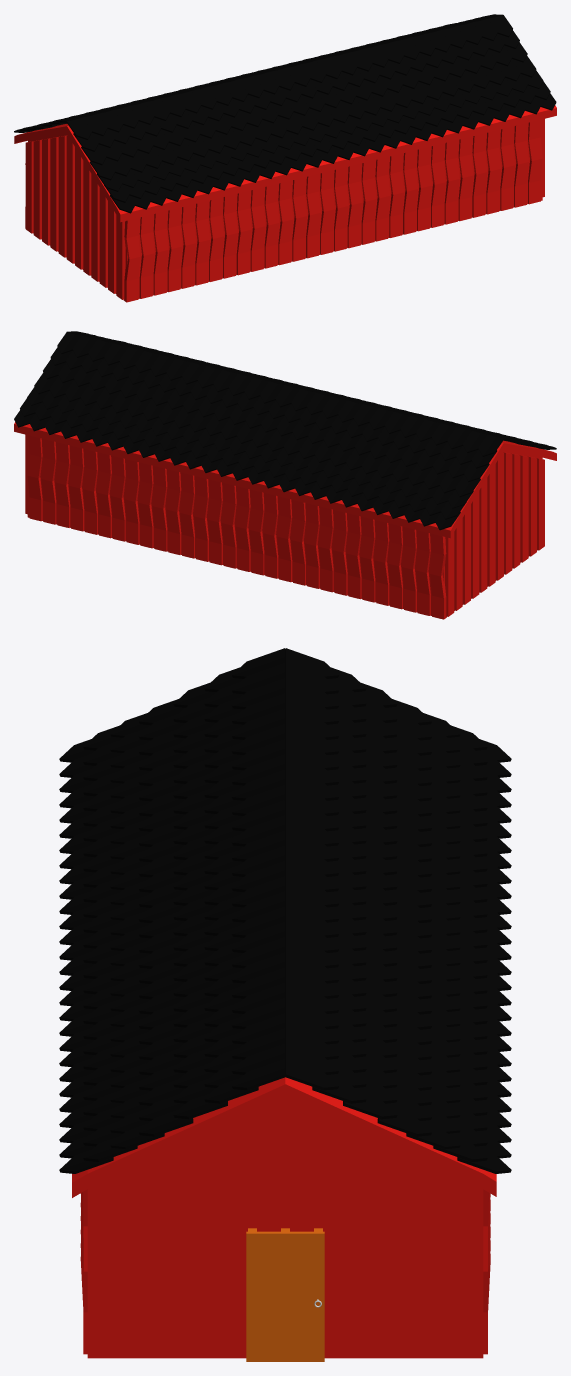
Rendered from Lato.fbx.
3 views of the same model, one above another, from view 1: azimuth 30°, elevation 25°; view 2: azimuth 150°, elevation 25°; view 3: azimuth 270°, elevation 25° (orthographic). The views are drawn at different scales.
Visible parts, largest first — view 1: Cube.003, Cube, Plane, Plane.003, Plane.002, Plane.005, Plane.001, Plane.004, Plane.006, Cube.002; view 2: Cube.003, Cube, Plane, Plane.003, Plane.002, Plane.005, Plane.001, Plane.004, Plane.006, Cube.002; view 3: Cube, Plane, Plane.003, Plane.002, Plane.004, Plane.005, Plane.001, Plane.006, Cube.001, Cube.003.
Boxes of the visible parts, x1,y1,x2,y2 form: Cube.003: [139, 119, 542, 298]; Cube: [14, 105, 556, 299]; Plane: [57, 14, 512, 139]; Plane.003: [33, 56, 536, 180]; Plane.002: [42, 42, 527, 165]; Plane.005: [20, 23, 550, 202]; Plane.001: [50, 17, 519, 151]; Plane.004: [26, 70, 543, 191]; Plane.006: [14, 26, 556, 213]; Cube.002: [25, 142, 140, 302]; Cube.003: [27, 435, 430, 615]; Cube: [14, 422, 556, 616]; Plane: [57, 331, 513, 456]; Plane.003: [34, 372, 536, 497]; Plane.002: [43, 359, 528, 482]; Plane.005: [20, 339, 550, 519]; Plane.001: [50, 334, 520, 468]; Plane.004: [27, 387, 543, 508]; Plane.006: [14, 343, 556, 530]; Cube.002: [430, 533, 446, 619]; Cube: [72, 1077, 496, 1358]; Plane: [232, 648, 338, 1090]; Plane.003: [139, 699, 431, 1136]; Plane.002: [173, 683, 397, 1119]; Plane.004: [110, 713, 460, 1149]; Plane.005: [83, 725, 487, 1161]; Plane.001: [204, 667, 366, 1103]; Plane.006: [59, 739, 511, 1173]; Cube.001: [246, 1228, 324, 1361]; Cube.003: [80, 1189, 490, 1354].
Bounding box in the file's own units: 1021 × 328 × 458.
